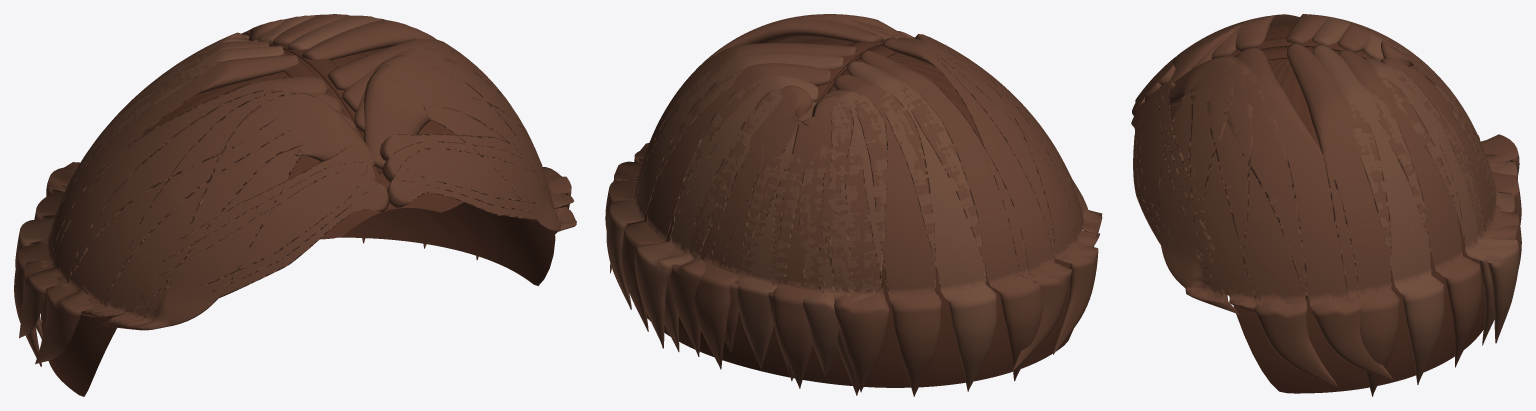
Rendered from Masculine-middle-part-beanie251-hair.glb.
3 views of the same model, side by side, from view 1: azimuth 30°, elevation 25°; view 2: azimuth 150°, elevation 25°; view 3: azimuth 270°, elevation 25° (orthographic). The views are drawn at different scales.
Parts seen in each view (by area): view 1: 226 hair / Hair / chestnut226.002, 226 hair / Hair / recessed roots251.002, 226 hair / Hair / main251.001, 226 hair / Hair / accent251.001, 226 hair / Hair / recessed roots251.003; view 2: 226 hair / Hair / main251.001, 226 hair / Hair / accent251.001, 226 hair / Hair / chestnut226.002, 226 hair / Hair / recessed roots251.002, 226 hair / Hair / recessed roots251.003; view 3: 226 hair / Hair / chestnut226.002, 226 hair / Hair / main251.001, 226 hair / Hair / accent251.001, 226 hair / Hair / recessed roots251.002, 226 hair / Hair / recessed roots251.003.
Boxes of the visible parts, box(x1,y1,x2,y2) form: 226 hair / Hair / chestnut226.002: box(19, 39, 576, 364); 226 hair / Hair / recessed roots251.002: box(41, 49, 555, 396); 226 hair / Hair / main251.001: box(14, 14, 478, 366); 226 hair / Hair / accent251.001: box(15, 15, 426, 339); 226 hair / Hair / recessed roots251.003: box(268, 42, 382, 174); 226 hair / Hair / main251.001: box(605, 43, 1042, 396); 226 hair / Hair / accent251.001: box(606, 52, 996, 395); 226 hair / Hair / chestnut226.002: box(610, 14, 1102, 371); 226 hair / Hair / recessed roots251.002: box(631, 39, 1073, 387); 226 hair / Hair / recessed roots251.003: box(815, 40, 896, 102); 226 hair / Hair / chestnut226.002: box(1131, 14, 1393, 387); 226 hair / Hair / main251.001: box(1287, 14, 1521, 396); 226 hair / Hair / accent251.001: box(1312, 17, 1519, 384); 226 hair / Hair / recessed roots251.002: box(1145, 24, 1484, 393); 226 hair / Hair / recessed roots251.003: box(1230, 37, 1371, 60).
Size of the model in its own units: 1.07 by 0.5895 by 0.7947.
